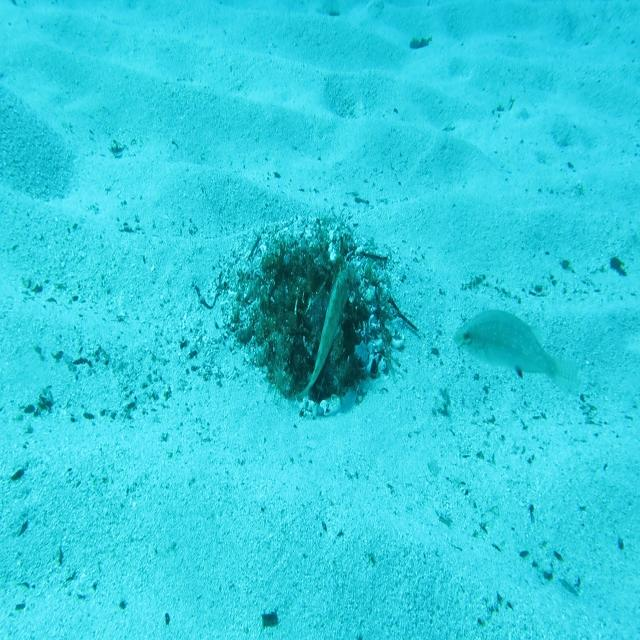FAN: (291, 263, 355, 405)
core_nest: (281, 257, 329, 294)
female: (450, 305, 580, 402)
nest: (208, 208, 406, 440)
vegetation: (408, 32, 432, 53), (608, 252, 627, 277), (259, 612, 278, 628)
